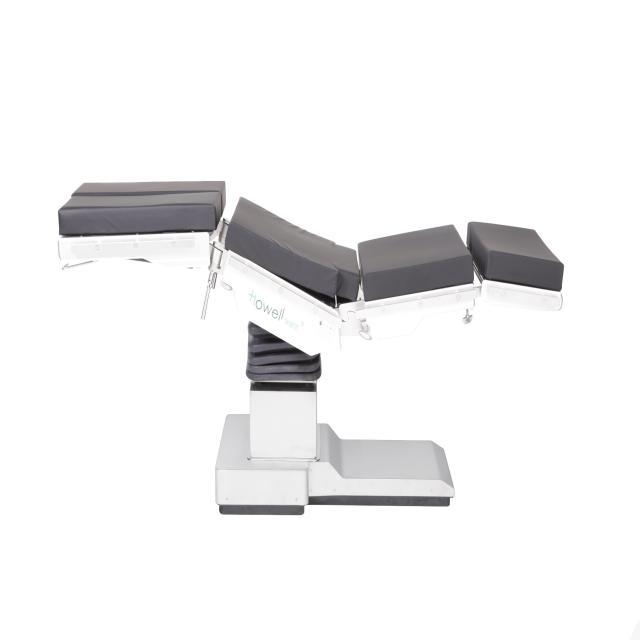bed: (58, 180, 564, 514)
